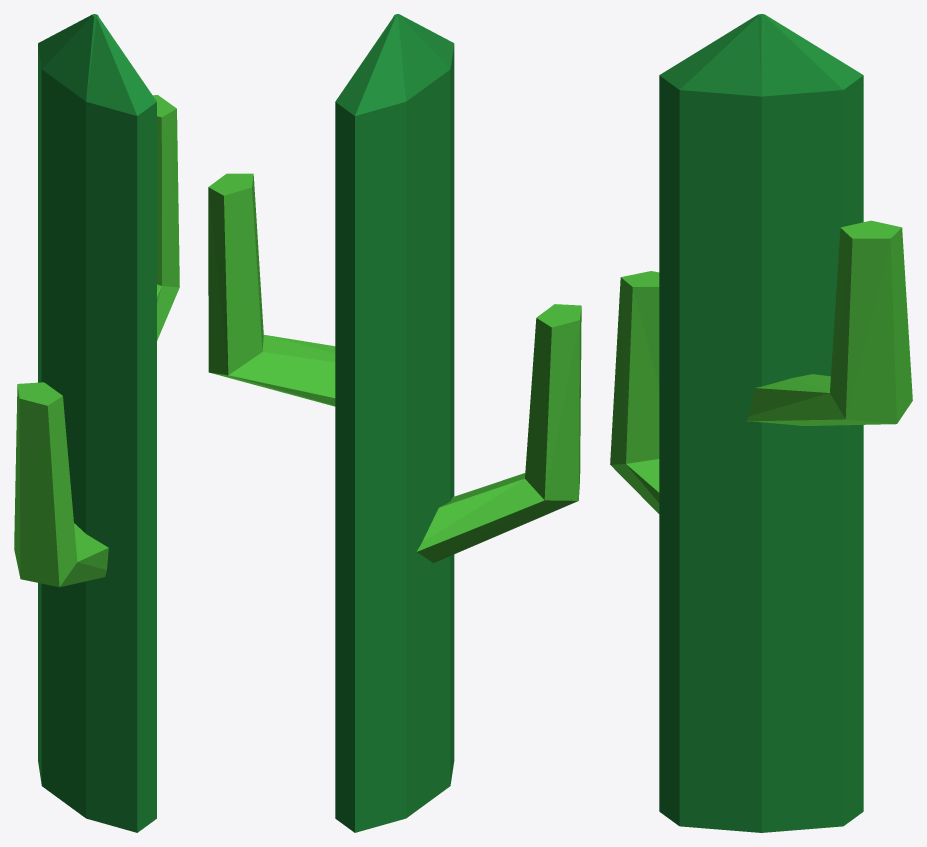
File: cactus_tall.fbx
3 views of the same model, side by side, from view 1: azimuth 30°, elevation 25°; view 2: azimuth 150°, elevation 25°; view 3: azimuth 270°, elevation 25° (orthographic). The views are drawn at different scales.
Visible parts, largest first — view 1: cactus_tall; view 2: cactus_tall; view 3: cactus_tall.
Boxes of the visible parts, box(x1,y1,x2,y2) form: cactus_tall: box(14, 14, 179, 832); cactus_tall: box(208, 14, 581, 832); cactus_tall: box(610, 14, 912, 832).
Bounding box in the file's own units: 1.2 × 3.5 × 1.2.
